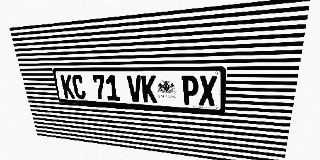1: (104, 75, 120, 101)
7: (92, 75, 107, 100)
C: (71, 75, 87, 99)
K: (141, 75, 157, 103), (60, 75, 75, 99)
P: (182, 75, 198, 105)
V: (127, 75, 143, 102)
X: (199, 75, 217, 106)
